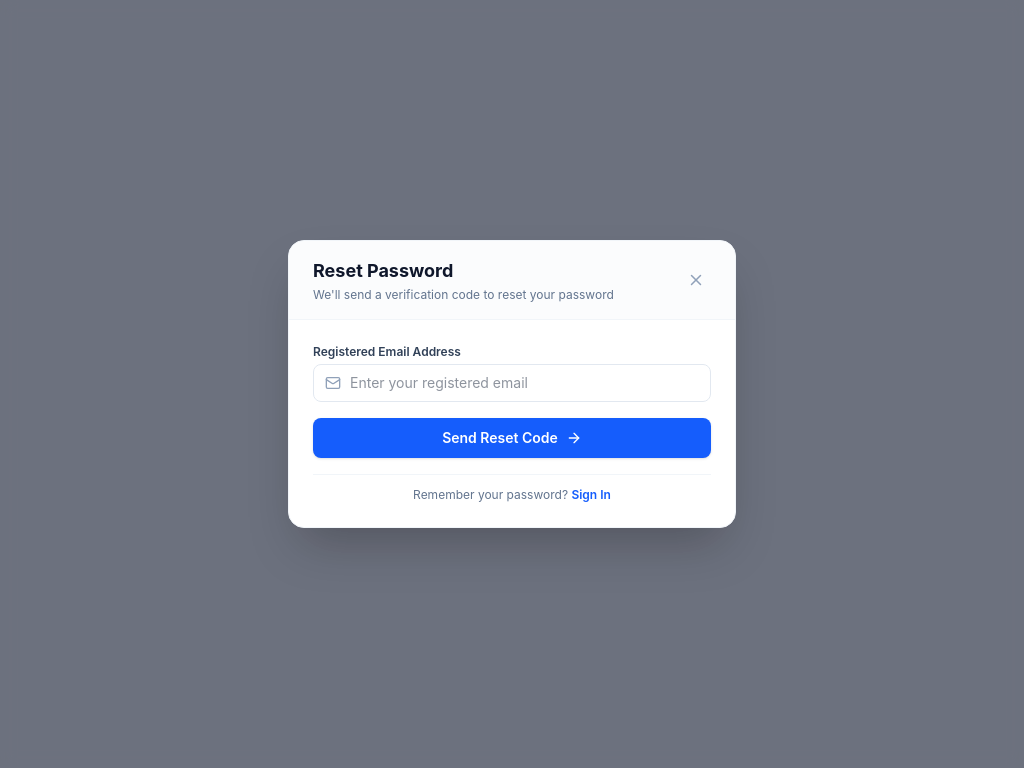
Test: AuthModal Component › submits forgot-password and transitions to confirm_reset
Expected: the heading "Reset Password" is shown, [313,260,453,281]
Type "student@cst.mait.ac.in" into the field with placeholder "Enter your registered email" at (512, 383), box [313,364,711,402]
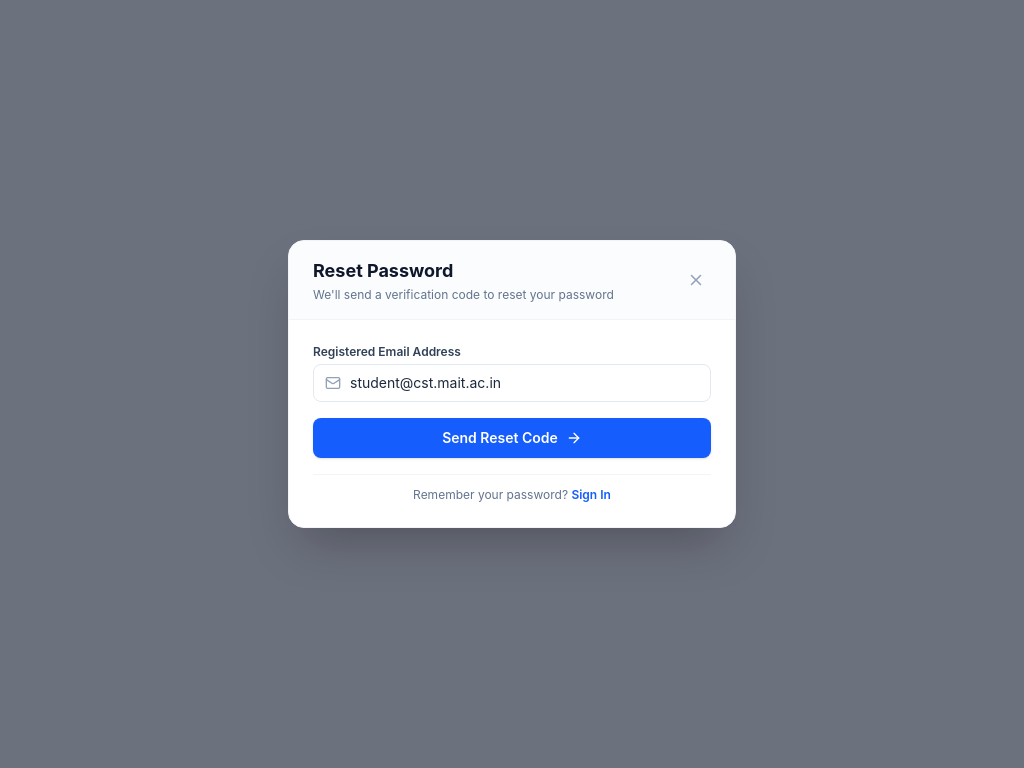
Click the button "Send Reset Code" at (512, 438), box [313,418,711,458]
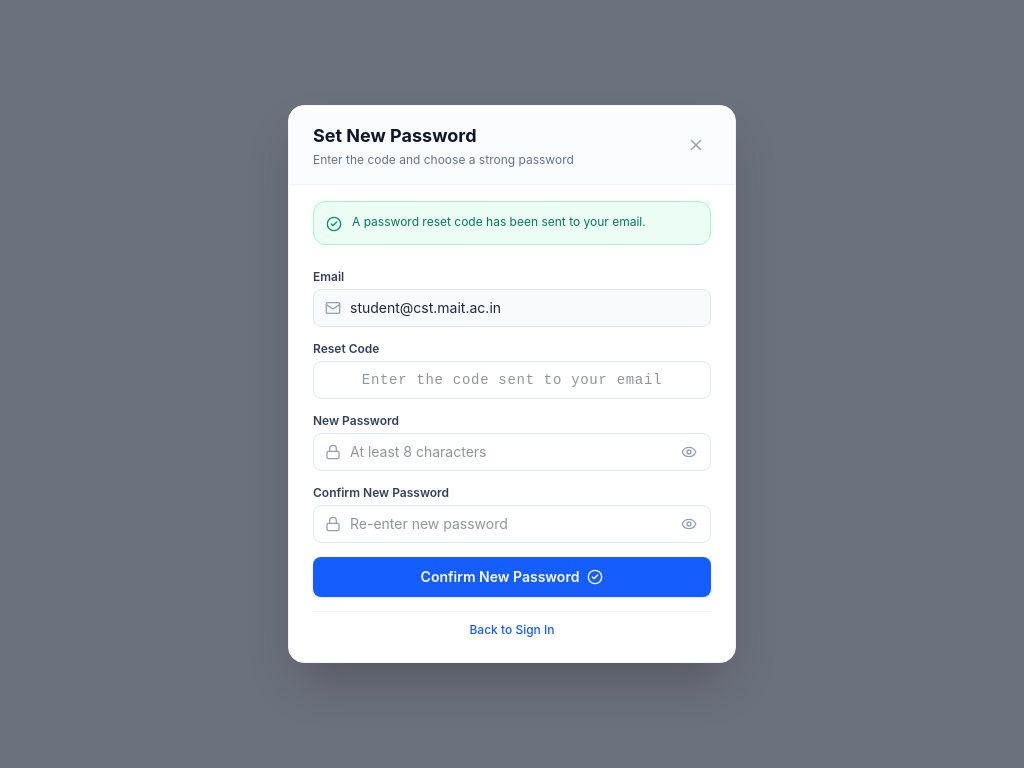
Result: the heading "Set New Password" is shown at [313,125,476,146]
